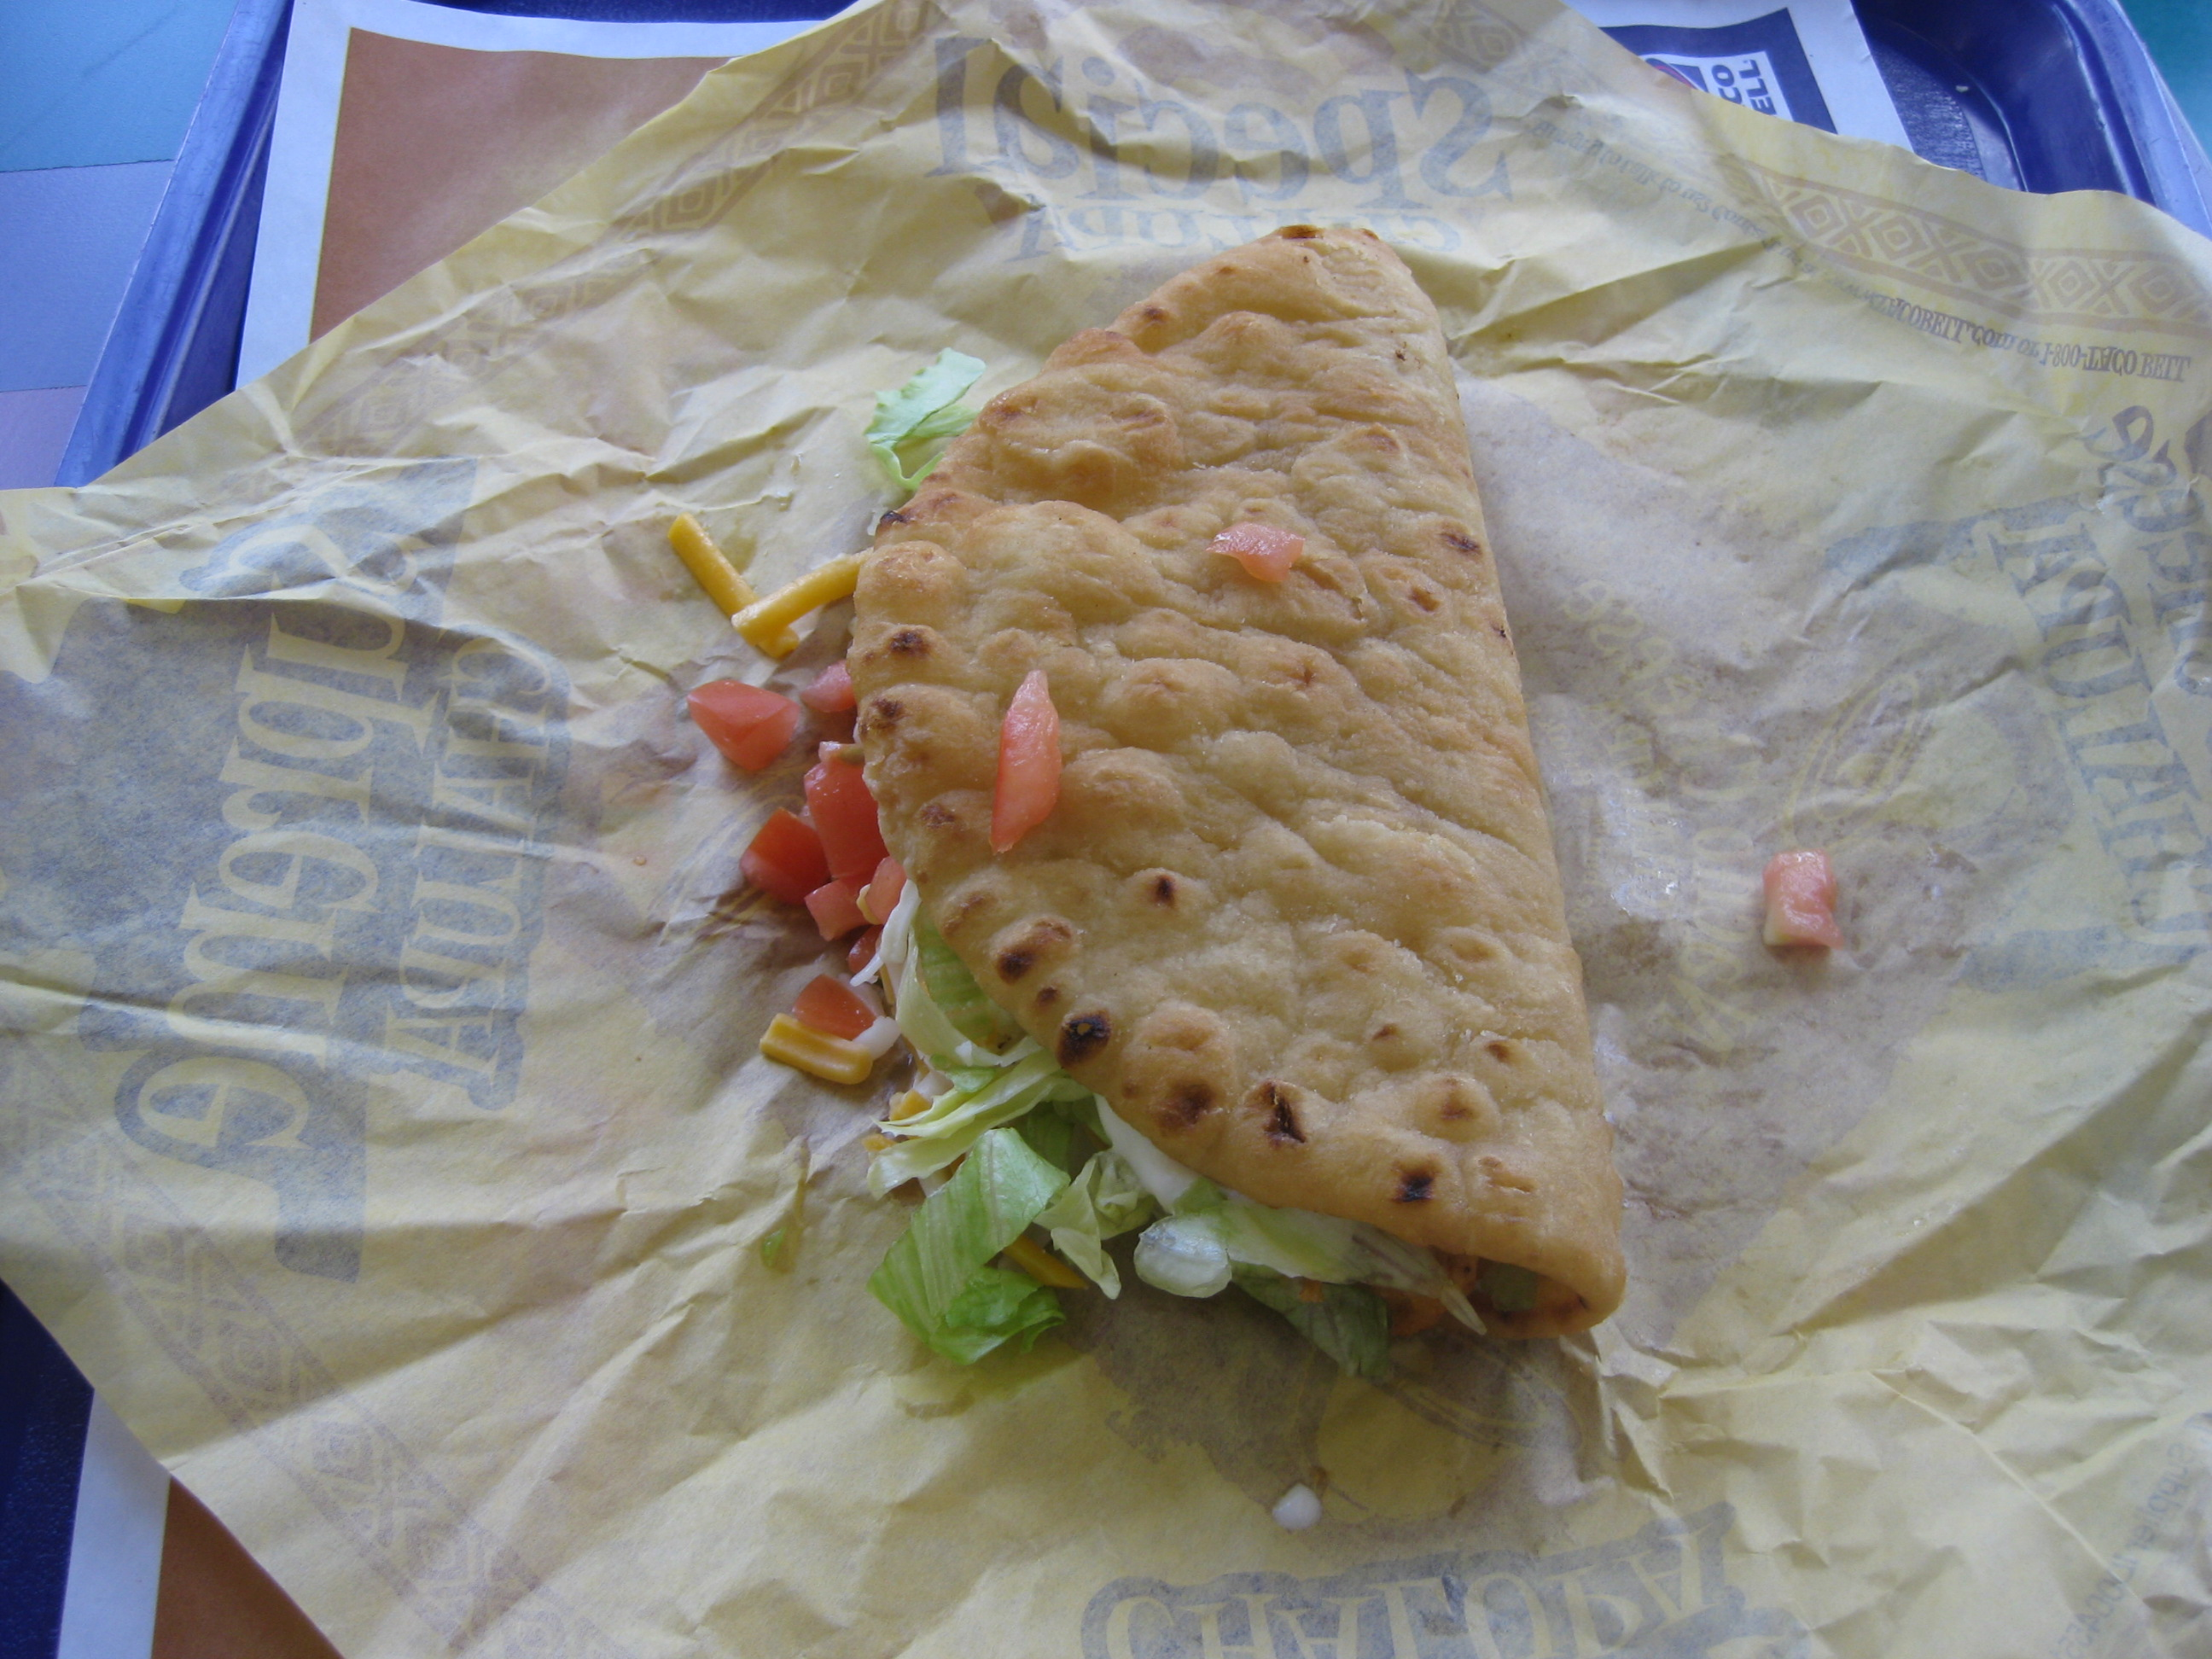taco: (689, 160, 1766, 1450)
